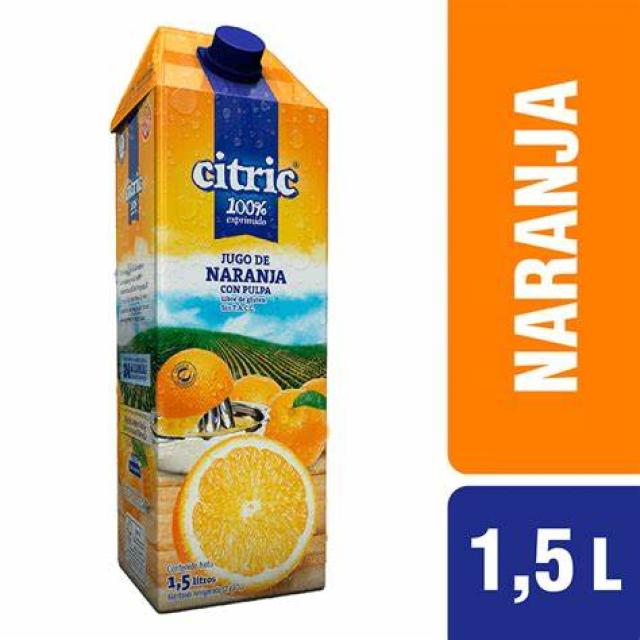Caja: (101, 17, 339, 616)
